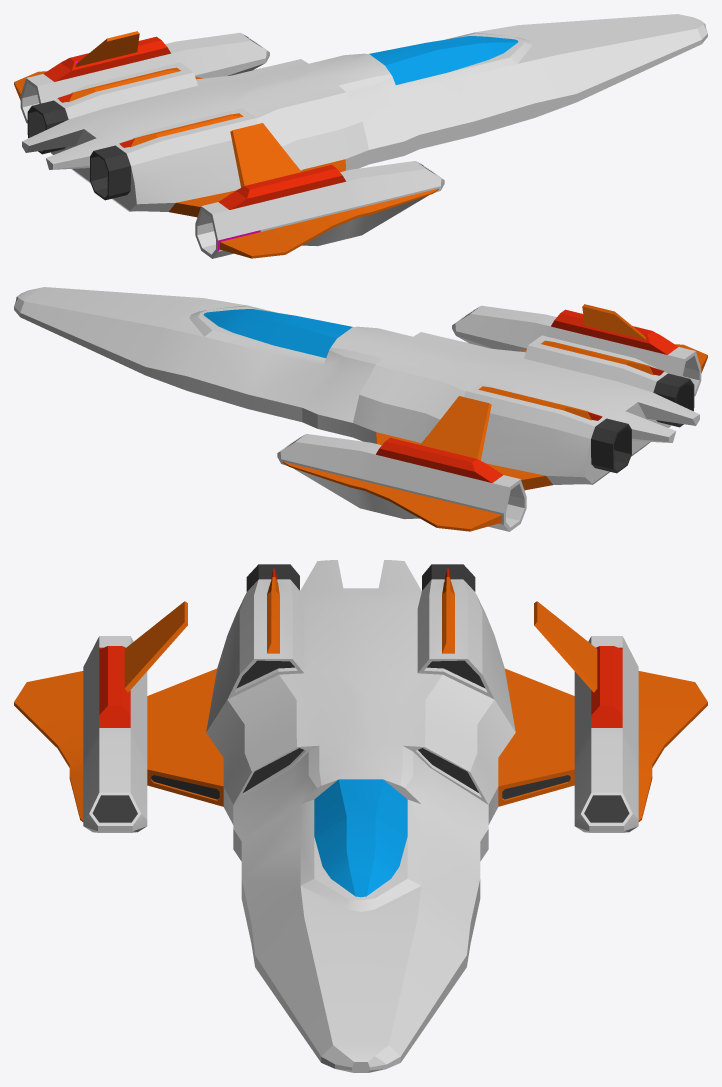
Rendered from Spaceships_8.fbx.
The picture shows the model from 3 angles, top to bottom: view 1: azimuth 30°, elevation 25°; view 2: azimuth 150°, elevation 25°; view 3: azimuth 270°, elevation 25°; orthographic projection. The views are drawn at different scales.
Visible parts, largest first — view 1: Cube.008; view 2: Cube.008; view 3: Cube.008.
Boxes of the visible parts, box(x1,y1,x2,y2) form: Cube.008: box(14, 14, 707, 258); Cube.008: box(14, 287, 707, 531); Cube.008: box(14, 560, 707, 1072).
Size of the model in its own units: 2107 by 324 by 1354.
